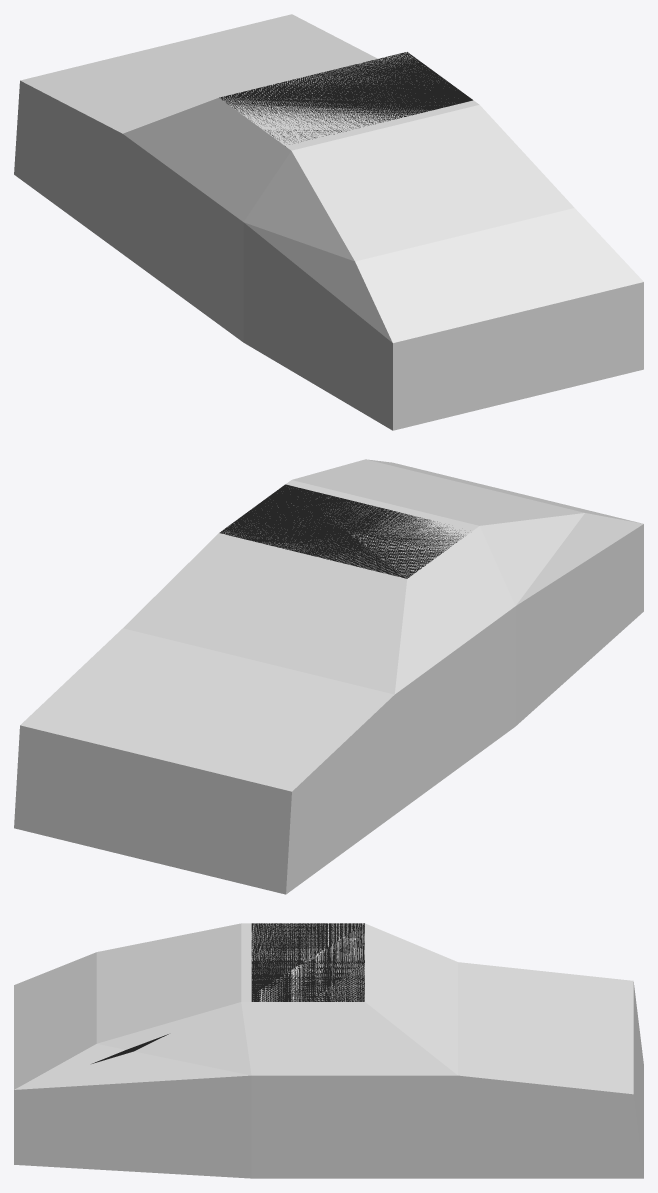
The model's file is turbo.glb.
The picture shows the model from 3 angles, top to bottom: view 1: azimuth 30°, elevation 25°; view 2: azimuth 150°, elevation 25°; view 3: azimuth 270°, elevation 25°; orthographic projection. The views are drawn at different scales.
Visible parts, largest first — view 1: COL_hull, vehicles/turbo; view 2: COL_hull, vehicles/turbo; view 3: COL_hull, vehicles/turbo.
Part boxes in pixels (bbox=[...]): COL_hull: bbox=[14, 14, 643, 430]; vehicles/turbo: bbox=[219, 52, 472, 146]; COL_hull: bbox=[14, 459, 643, 894]; vehicles/turbo: bbox=[219, 484, 465, 578]; COL_hull: bbox=[14, 923, 643, 1178]; vehicles/turbo: bbox=[92, 923, 364, 1063].
Bounding box in the file's own units: 1.62 × 1.06 × 3.81.
Materials: 2 (2 with a texture image).
